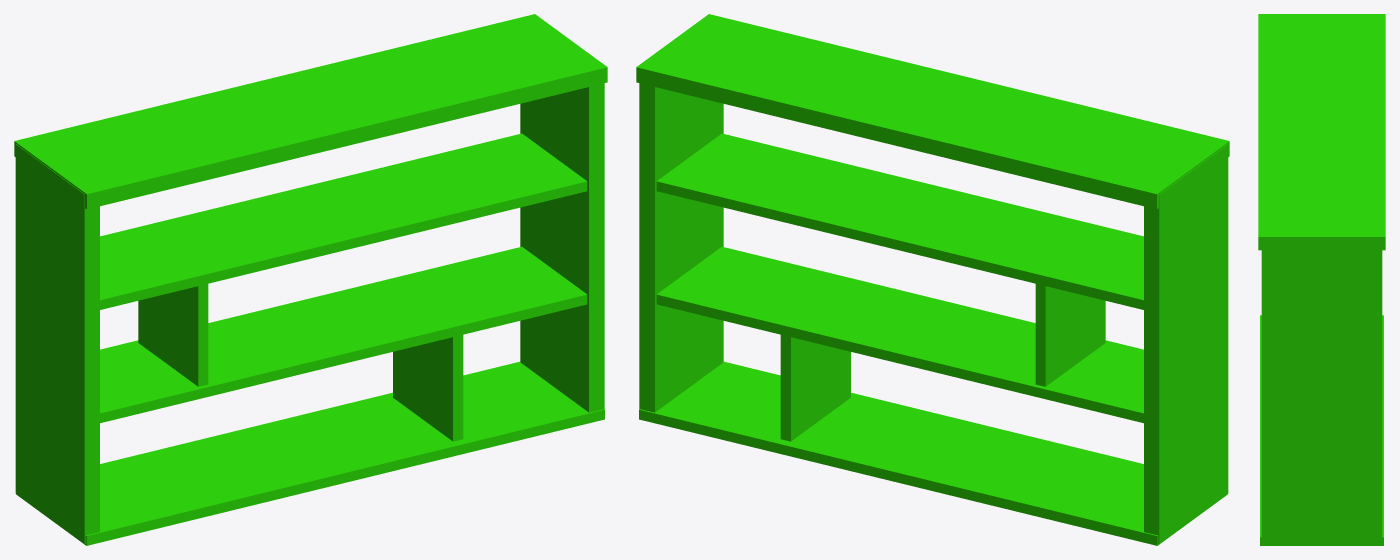
The model's file is Bookcase_03_Lod0.fbx.
The picture shows the model from 3 angles, left to right: view 1: azimuth 30°, elevation 25°; view 2: azimuth 150°, elevation 25°; view 3: azimuth 270°, elevation 25°; orthographic projection. The views are drawn at different scales.
Visible parts, largest first — view 1: Bookcase_03_Lod0; view 2: Bookcase_03_Lod0; view 3: Bookcase_03_Lod0.
Part boxes in pixels (<box>): Bookcase_03_Lod0: <box>14,14,607,545</box>; Bookcase_03_Lod0: <box>636,14,1229,545</box>; Bookcase_03_Lod0: <box>1258,14,1385,545</box>.
Bounding box in the file's own units: 180 × 116 × 43.45.
